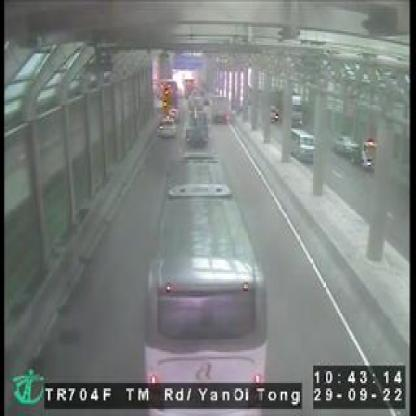Bus: (140, 154, 266, 414)
Car: (285, 125, 313, 163), (210, 88, 233, 125), (154, 114, 176, 136)
Truck: (185, 92, 209, 144)
